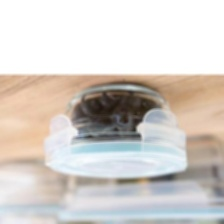plastic_box: (35, 77, 192, 185)
